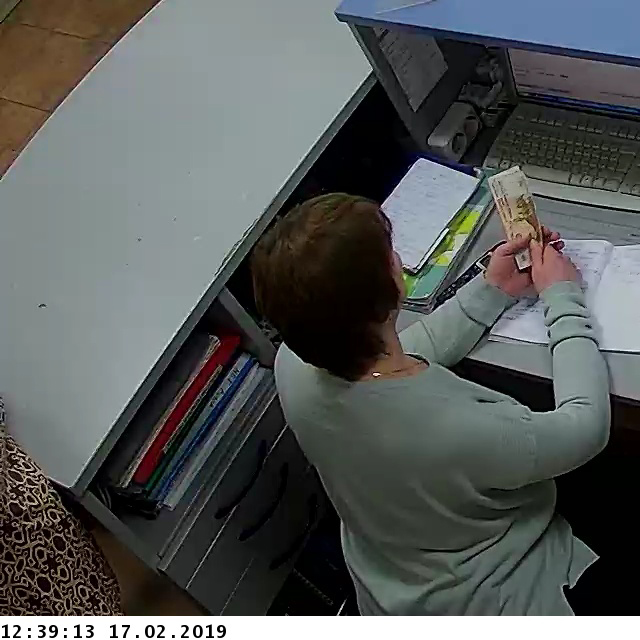banknotes: (489, 169, 547, 272)
